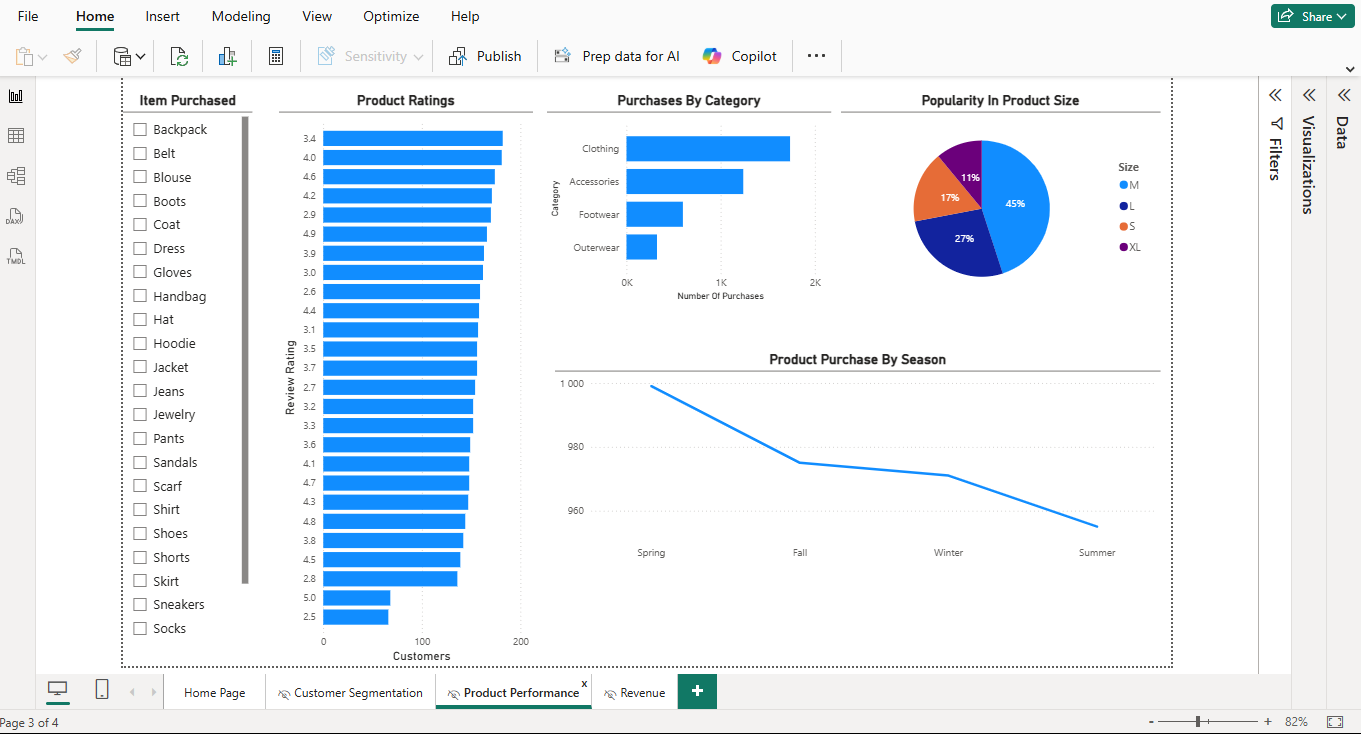

Layout of this report page (visuals, bound fields, positions):
{"tool":"powerbi","page":{"name":"Product Performance","canvas":[1280,720],"ordinal":2},"visuals":[{"type":"barChart","title":"Purchases By Category","fields":{"Category":["shopping_trends_with_processdate.Category"],"Y":["CountNonNull(shopping_trends_with_processdate.Customer ID)"]},"box":[517.5,19.3,346.8,258.8],"z":0},{"type":"pieChart","title":"Popularity In Product Size","fields":{"Category":["shopping_trends_with_processdate.Size"],"Y":["CountNonNull(shopping_trends_with_processdate.Customer ID)"]},"box":[876.7,19.3,389.5,258.8],"z":1000},{"type":"slicer","title":"Item Purchased","fields":{"Values":["shopping_trends_with_processdate.Item Purchased"]},"box":[0,19.3,158.3,677.2],"z":2000},{"type":"lineChart","title":"Product Purchase By Season","fields":{"Category":["shopping_trends_with_processdate.Season"],"Y":["CountNonNull(shopping_trends_with_processdate.Customer ID)"]},"box":[527.1,335.8,739.1,262.9],"z":3000},{"type":"barChart","title":"Product Ratings","fields":{"Category":["shopping_trends_with_processdate.Review Rating"],"Y":["CountNonNull(shopping_trends_with_processdate.Customer ID)"]},"box":[189.9,19.3,309.7,700.6],"z":4000}]}

Visuals, with their boxes on the page's 1280x720 design canvas (x1, y1, x2, y2). These are canvas units, not pixel positions in the 1361x734 screenshot, which may show the page scaled, cropped or inside an application window:
"Purchases By Category" barChart: (518,19,864,278)
"Popularity In Product Size" pieChart: (877,19,1266,278)
"Item Purchased" slicer: (0,19,158,696)
"Product Purchase By Season" lineChart: (527,336,1266,599)
"Product Ratings" barChart: (190,19,500,720)
